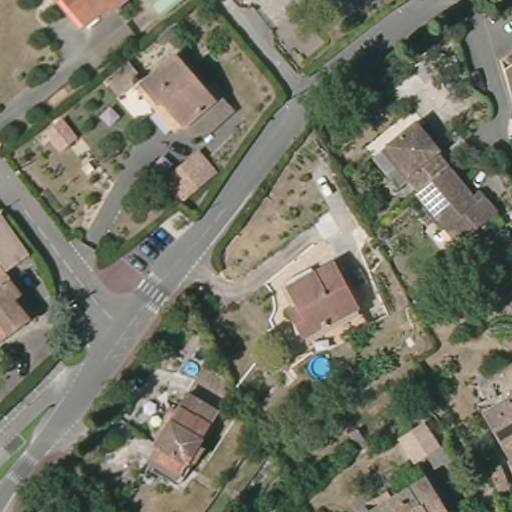pool: (305, 351, 339, 379), (182, 357, 204, 378)
